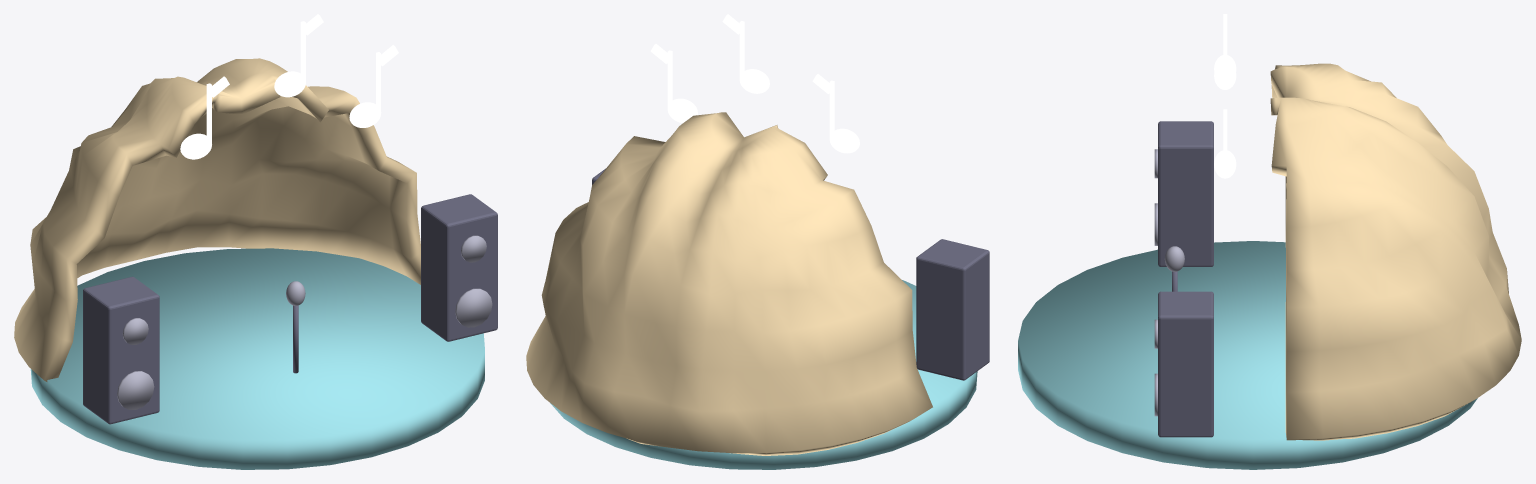
The model's file is place_music.glb.
3 renders of one model, left to right at view 1: azimuth 30°, elevation 25°; view 2: azimuth 150°, elevation 25°; view 3: azimuth 270°, elevation 25°, orthographic. The views are drawn at different scales.
Visible parts, largest first — view 1: Stage, ShellDome, Speaker1, Speaker-1, Cone10, Cone-10, NoteHead1, NoteHead0, NoteHead2, Cone11, Cone-11; view 2: ShellDome, Speaker-1, Stage, NoteHead0, NoteHead1, NoteHead2; view 3: ShellDome, Stage, Speaker1, Speaker-1.
Part boxes in pixels (x1,y1,x2,y2): Stage: (30,248,484,469); ShellDome: (14,58,420,381); Speaker1: (421,194,497,341); Speaker-1: (83,276,159,424); Cone10: (455,288,492,327); Cone-10: (117,371,154,409); NoteHead1: (274,71,305,97); NoteHead0: (180,133,211,159); NoteHead2: (349,102,381,127); Cone11: (461,235,486,262); Cone-11: (122,318,148,344); ShellDome: (526,112,932,455); Speaker-1: (916,239,989,380); Stage: (550,280,977,469); NoteHead0: (829,128,859,153); NoteHead1: (739,69,769,93); NoteHead2: (667,98,697,123); ShellDome: (1270,63,1521,440); Stage: (1018,241,1477,469); Speaker1: (1158,291,1213,437); Speaker-1: (1158,121,1213,266).
Bounding box in the file's own units: 8.4 × 7.27 × 9.
